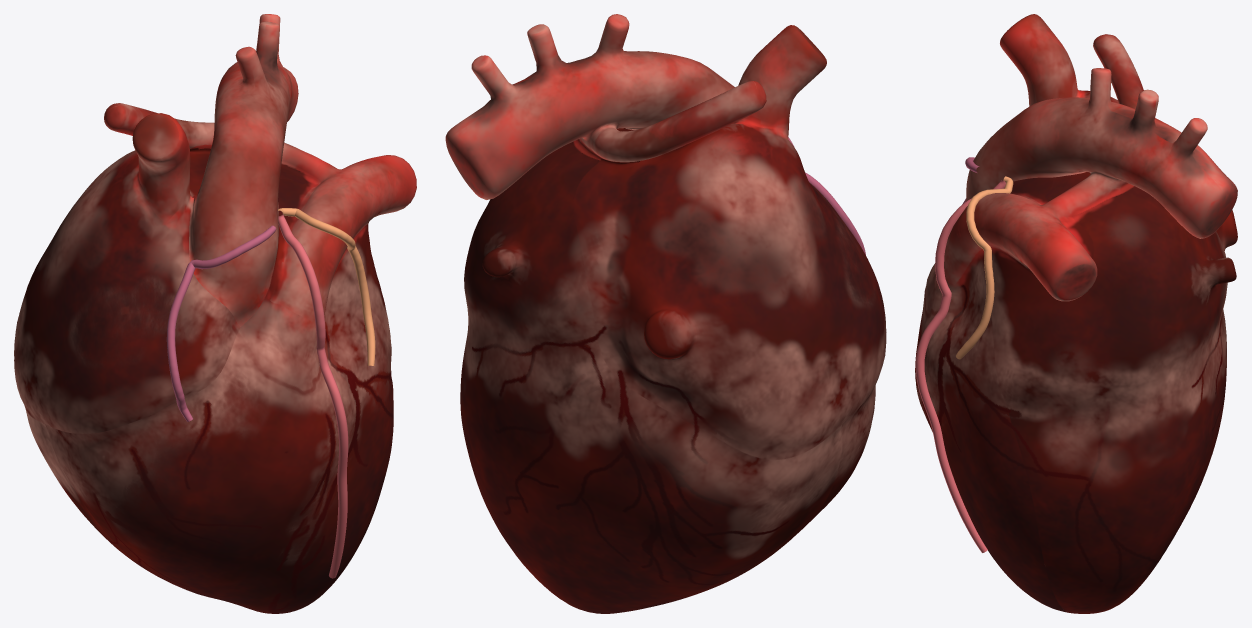
Rendered from realistic_human_heart_coronary_arteries.glb.
The picture shows the model from 3 angles, left to right: view 1: azimuth 30°, elevation 25°; view 2: azimuth 150°, elevation 25°; view 3: azimuth 270°, elevation 25°; orthographic projection. The views are drawn at different scales.
Visible parts, largest first — view 1: hart:ZBrush_defualt_group, LAD — Left Anterior Descending, RCA — Right Coronary Artery, LCX — Left Circumflex; view 2: hart:ZBrush_defualt_group, RCA — Right Coronary Artery; view 3: hart:ZBrush_defualt_group, LAD — Left Anterior Descending, LCX — Left Circumflex.
Boxes of the visible parts, x1=… form: hart:ZBrush_defualt_group: x1=14, y1=14, x2=416, y2=613; LAD — Left Anterior Descending: x1=278, y1=214, x2=348, y2=578; RCA — Right Coronary Artery: x1=166, y1=225, x2=276, y2=421; LCX — Left Circumflex: x1=278, y1=208, x2=375, y2=365; hart:ZBrush_defualt_group: x1=445, y1=14, x2=886, y2=613; RCA — Right Coronary Artery: x1=788, y1=137, x2=865, y2=254; hart:ZBrush_defualt_group: x1=915, y1=14, x2=1237, y2=613; LAD — Left Anterior Descending: x1=915, y1=180, x2=1005, y2=552; LCX — Left Circumflex: x1=956, y1=176, x2=1013, y2=359.
Size of the model in its own units: 1.08 by 1.6 by 0.8801.
4 materials, 1 textured.
